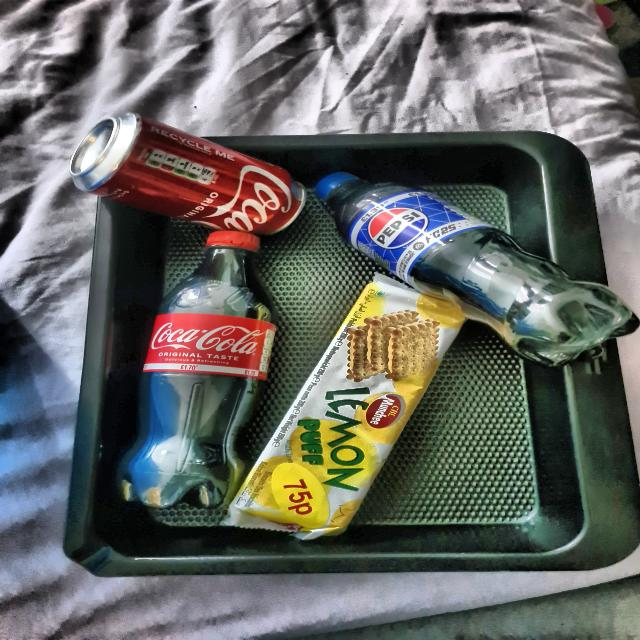coke-bottle: (142, 225, 262, 520)
coke-can: (80, 124, 295, 232)
lemon puff: (255, 278, 438, 532)
pepsi-bottle: (318, 164, 631, 357)
